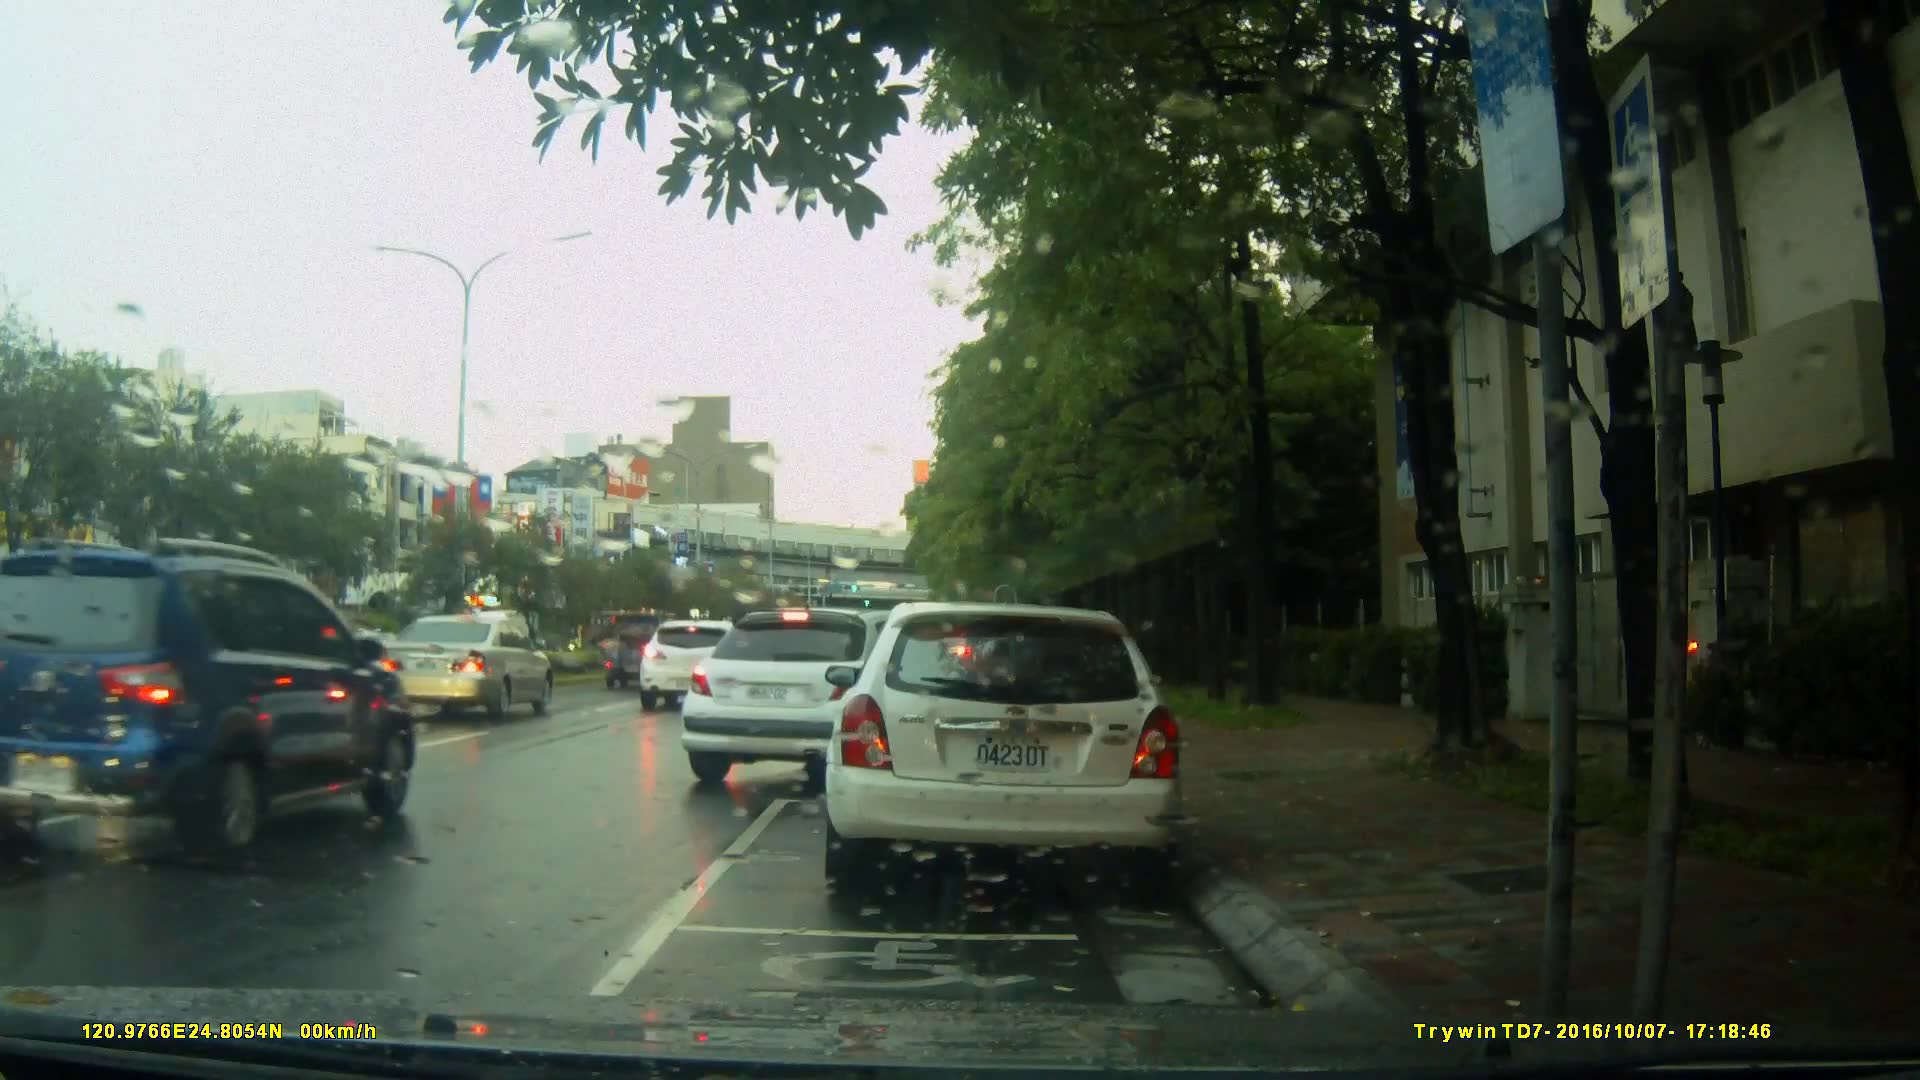vehicle: (4, 535, 418, 862), (820, 603, 1188, 898), (676, 607, 977, 796), (363, 613, 556, 723), (637, 617, 752, 715)
